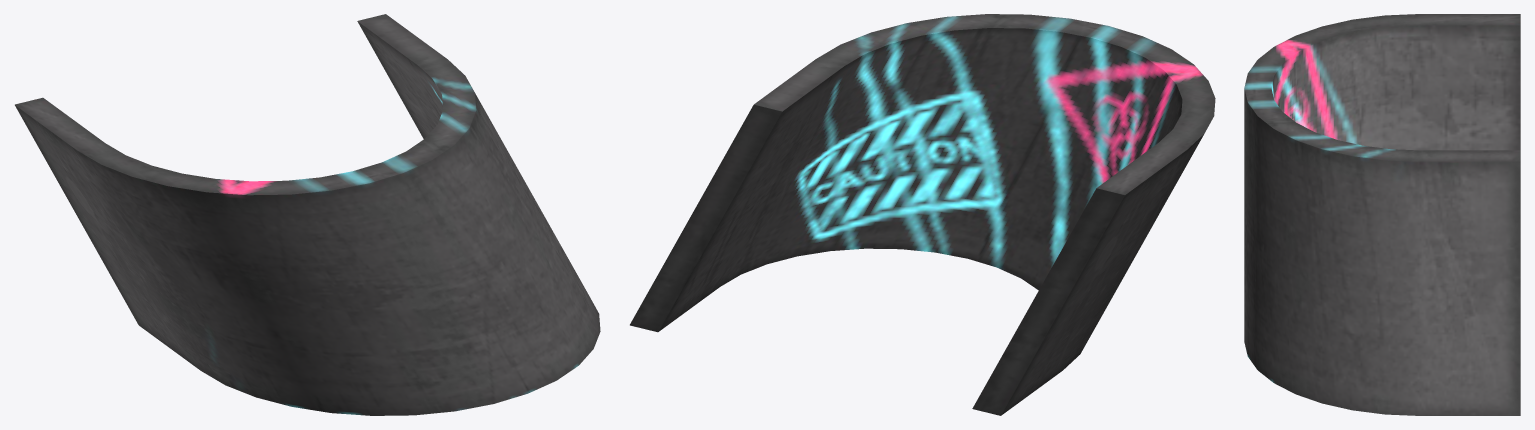
File: duct_vert_lean_R.fbx
3 views of the same model, side by side, from view 1: azimuth 30°, elevation 25°; view 2: azimuth 150°, elevation 25°; view 3: azimuth 270°, elevation 25° (orthographic). The views are drawn at different scales.
Parts seen in each view (by area): view 1: duct_vert_02.001; view 2: duct_vert_02.001; view 3: duct_vert_02.001.
Boxes of the visible parts, left/top/right/bottom form: duct_vert_02.001: left=15, top=14, right=600, bottom=415; duct_vert_02.001: left=630, top=14, right=1215, bottom=415; duct_vert_02.001: left=1244, top=14, right=1520, bottom=415.
Bounding box in the file's own units: 3669 × 1776 × 2171.
